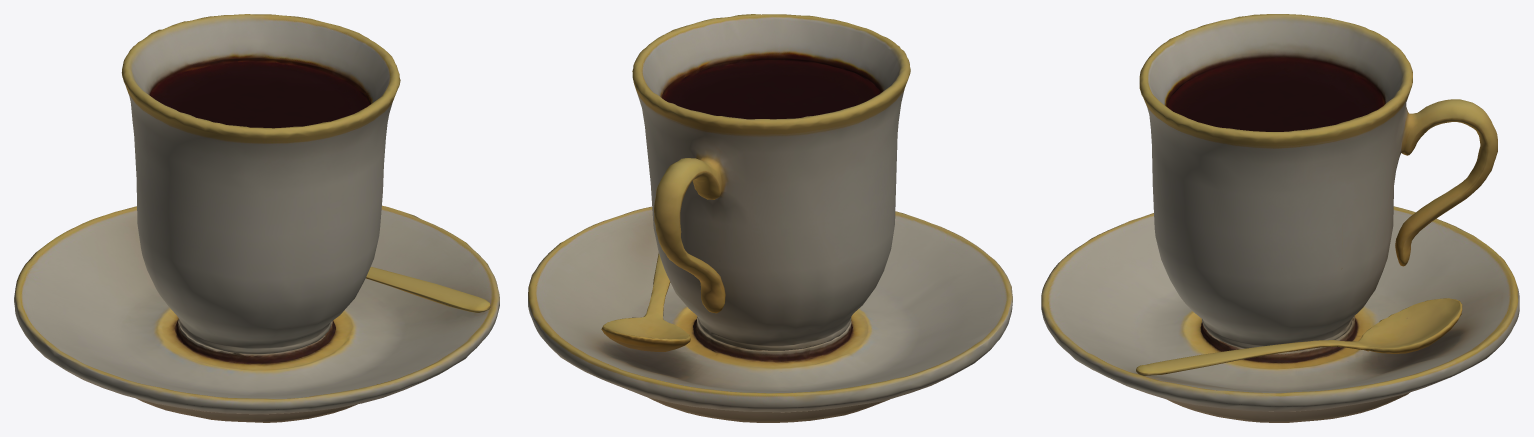
Rendered from royal-coffee.glb.
3 views of the same model, side by side, from view 1: azimuth 30°, elevation 25°; view 2: azimuth 150°, elevation 25°; view 3: azimuth 270°, elevation 25° (orthographic).
Visible parts, largest first — view 1: tripo_node_deadd89d-7ce2-4d8c-bf7d-e8e6686fc835; view 2: tripo_node_deadd89d-7ce2-4d8c-bf7d-e8e6686fc835; view 3: tripo_node_deadd89d-7ce2-4d8c-bf7d-e8e6686fc835.
Part boxes in pixels (<box>): tripo_node_deadd89d-7ce2-4d8c-bf7d-e8e6686fc835: <box>14,14,499,422</box>; tripo_node_deadd89d-7ce2-4d8c-bf7d-e8e6686fc835: <box>528,14,1012,422</box>; tripo_node_deadd89d-7ce2-4d8c-bf7d-e8e6686fc835: <box>1041,14,1519,422</box>.
Bounding box in the file's own units: 0.998 × 0.6699 × 0.998.
1 material, 1 textured.
